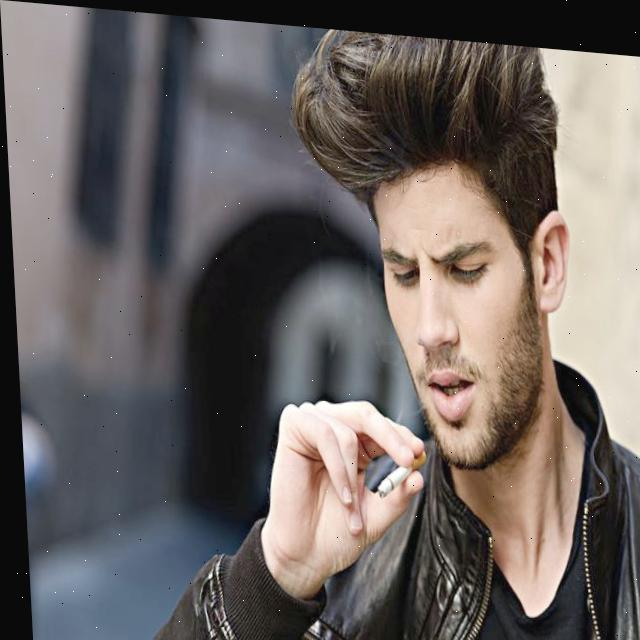cigarette: (369, 438, 424, 493)
